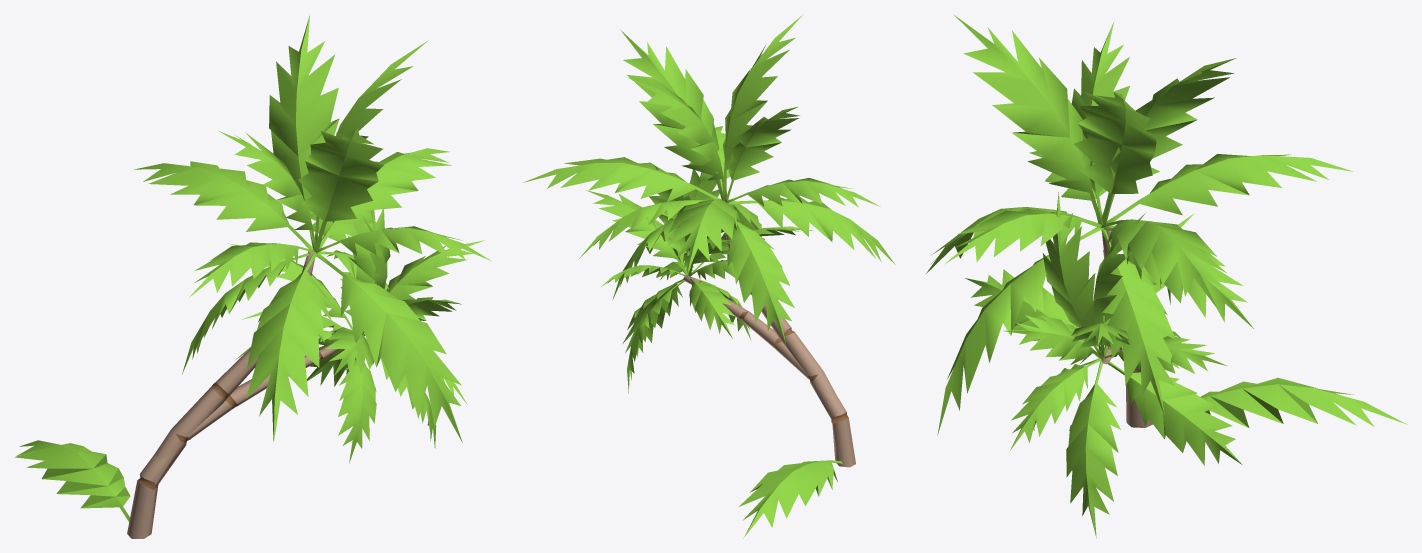
Rendered from polybeach_palms.fbx.
The picture shows the model from 3 angles, left to right: view 1: azimuth 30°, elevation 25°; view 2: azimuth 150°, elevation 25°; view 3: azimuth 270°, elevation 25°; orthographic projection. The views are drawn at different scales.
Parts seen in each view (by area): view 1: beach_palm01, beach_palm02, PalmLeaf; view 2: beach_palm01, beach_palm02, PalmLeaf; view 3: beach_palm01, beach_palm02, PalmLeaf.
Boxes of the visible parts, x1,y1,x2,y2 form: beach_palm01: (134, 15, 491, 538); beach_palm02: (127, 209, 484, 538); PalmLeaf: (15, 440, 130, 521); beach_palm01: (522, 15, 895, 465); beach_palm02: (586, 147, 855, 467); PalmLeaf: (739, 460, 842, 538); beach_palm01: (926, 14, 1352, 435); beach_palm02: (965, 192, 1242, 538); PalmLeaf: (1200, 377, 1406, 427).
Size of the model in its own units: 5.1 by 5.59 by 5.06.
